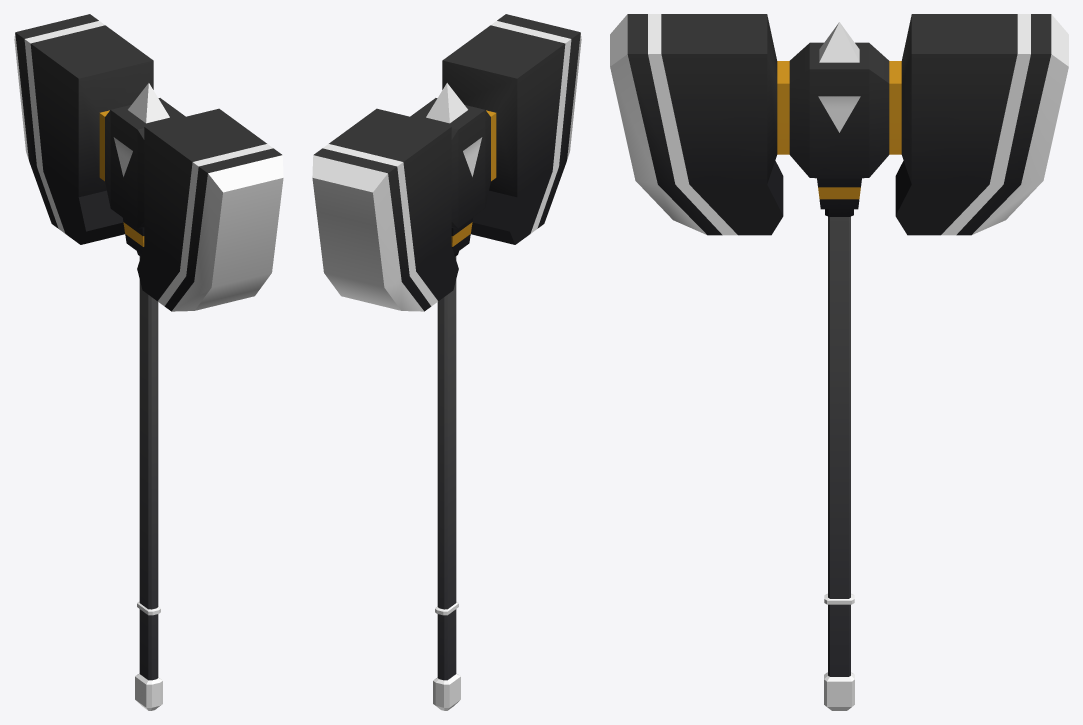
File: Weapon_Great_Hammer.fbx
3 views of the same model, side by side, from view 1: azimuth 30°, elevation 25°; view 2: azimuth 150°, elevation 25°; view 3: azimuth 270°, elevation 25° (orthographic). The views are drawn at different scales.
Visible parts, largest first — view 1: W_H_2; view 2: W_H_2; view 3: W_H_2.
Boxes of the visible parts, box(x1,y1,x2,y2) form: W_H_2: box(14, 14, 283, 710); W_H_2: box(312, 14, 581, 710); W_H_2: box(610, 14, 1068, 710).
Bounding box in the file's own units: 16.76 × 134 × 81.03.
